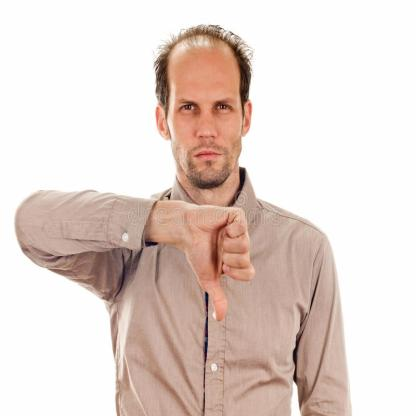Thumbs-Down: (155, 198, 277, 325)
